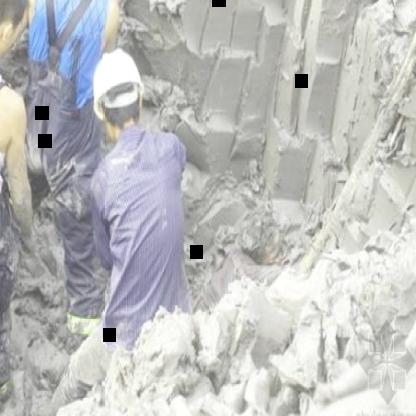head: (0, 0, 32, 62)
helmet: (90, 46, 150, 147)
